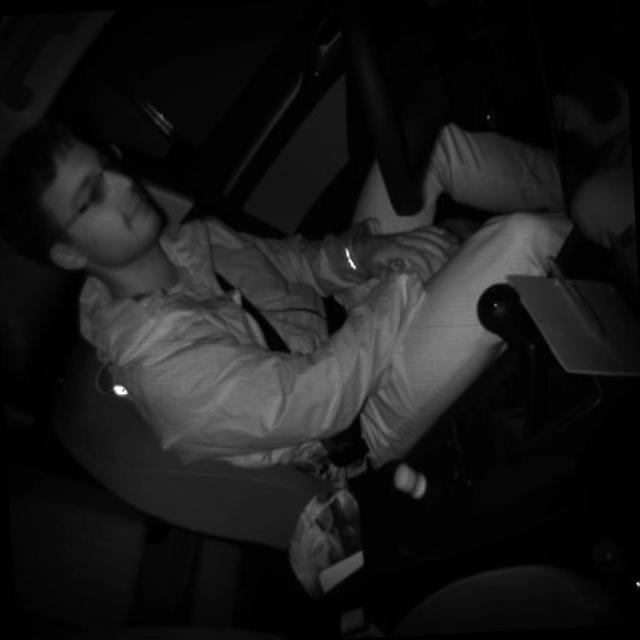pen: (544, 250, 608, 347)
